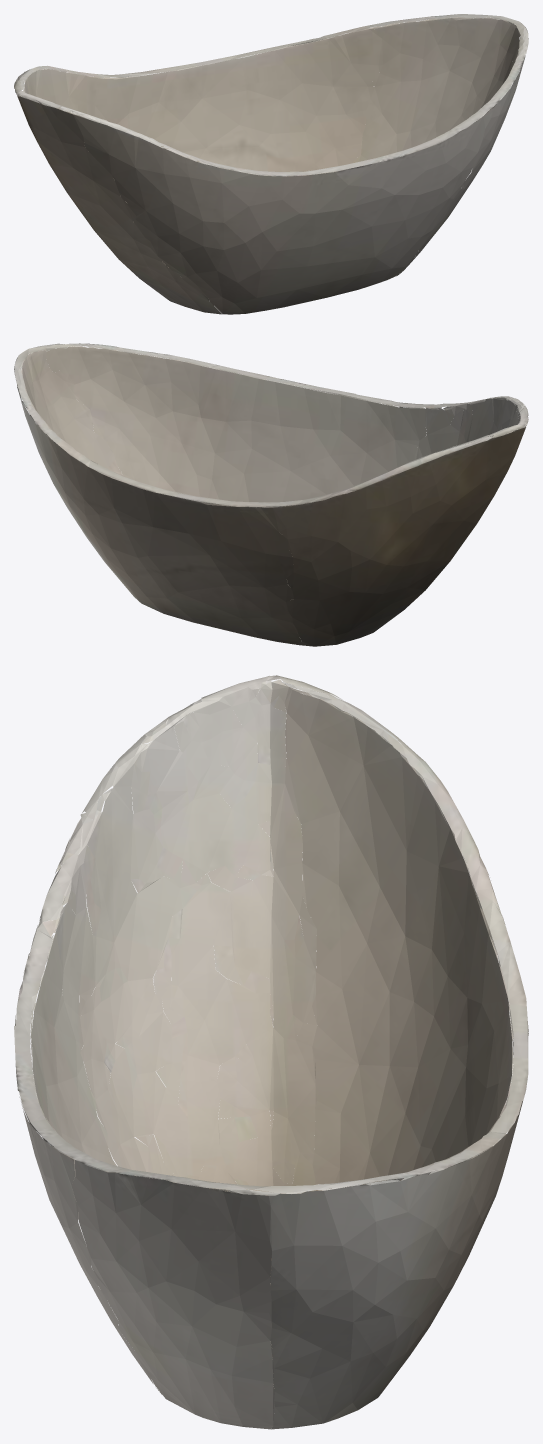
The model's file is c-baignoire.glb.
3 views of the same model, one above another, from view 1: azimuth 30°, elevation 25°; view 2: azimuth 150°, elevation 25°; view 3: azimuth 270°, elevation 25° (orthographic). The views are drawn at different scales.
Visible parts, largest first — view 1: geometry_0; view 2: geometry_0; view 3: geometry_0.
Part boxes in pixels (x1=…): geometry_0: x1=14, y1=14, x2=528, y2=314; geometry_0: x1=14, y1=343, x2=528, y2=646; geometry_0: x1=14, y1=675, x2=528, y2=1429.
Size of the model in its own units: 1 by 0.465 by 0.507.
Materials: 1 (1 with a texture image).
